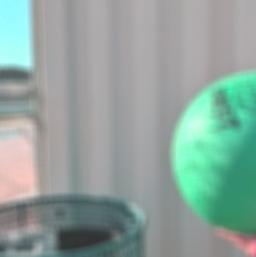algae: (174, 71, 256, 236)
